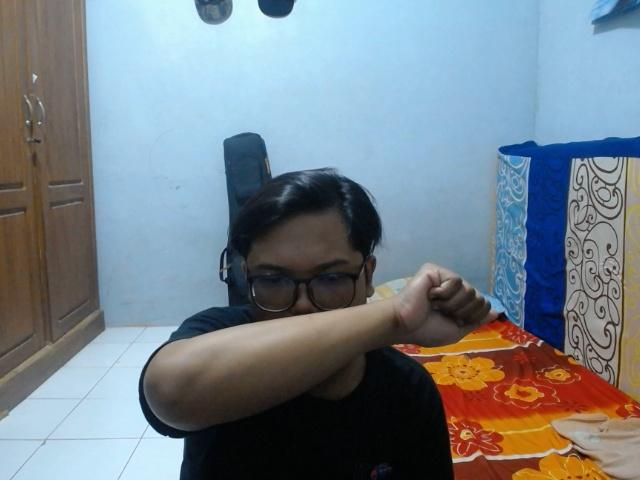Grab: (387, 259, 500, 348)
